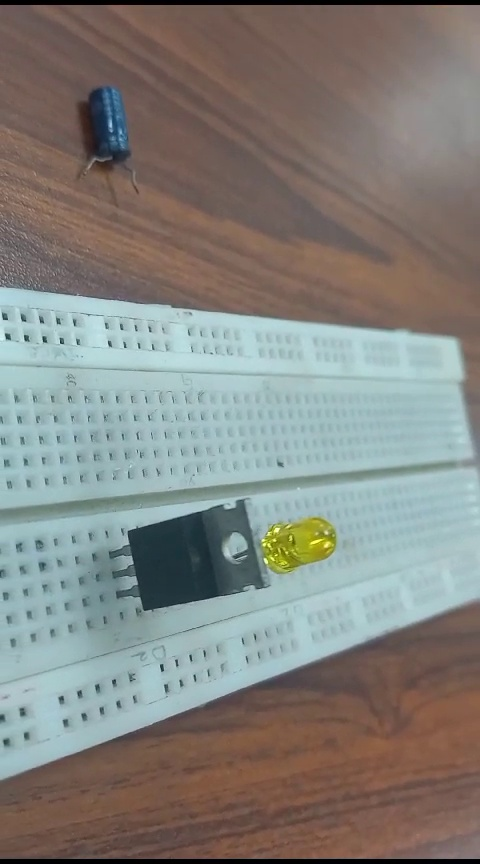LED: (255, 516, 336, 579)
voltage regulator: (104, 503, 271, 620)
